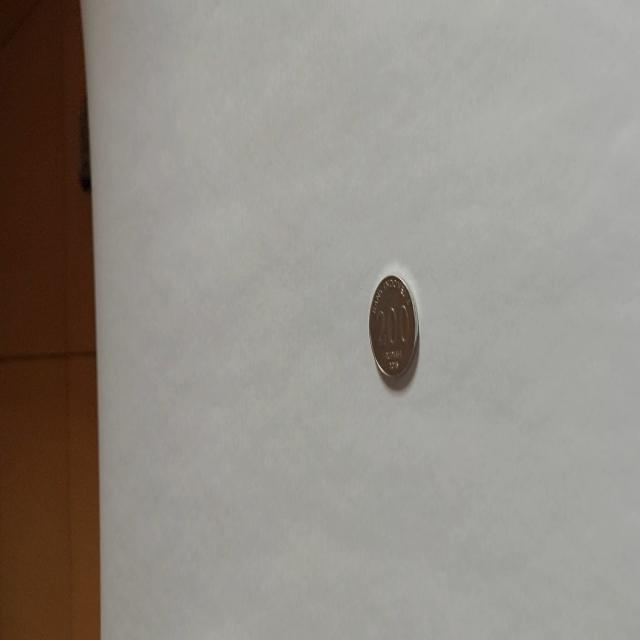dua ratus rupiah: (367, 272, 419, 382)
